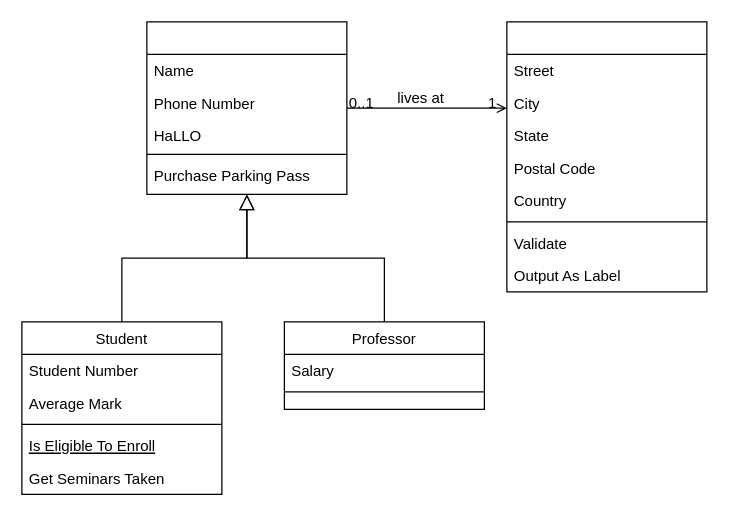
The diagram is 729 pixels wide and 520 high, and some of its shapes have lost their labels. The shapes that lost their labels are listed below. From the top down, each one's box as (x1, y1, x2, y2) in pixels, then its label:
(146, 21, 347, 194): Person
(506, 21, 707, 292): Address
